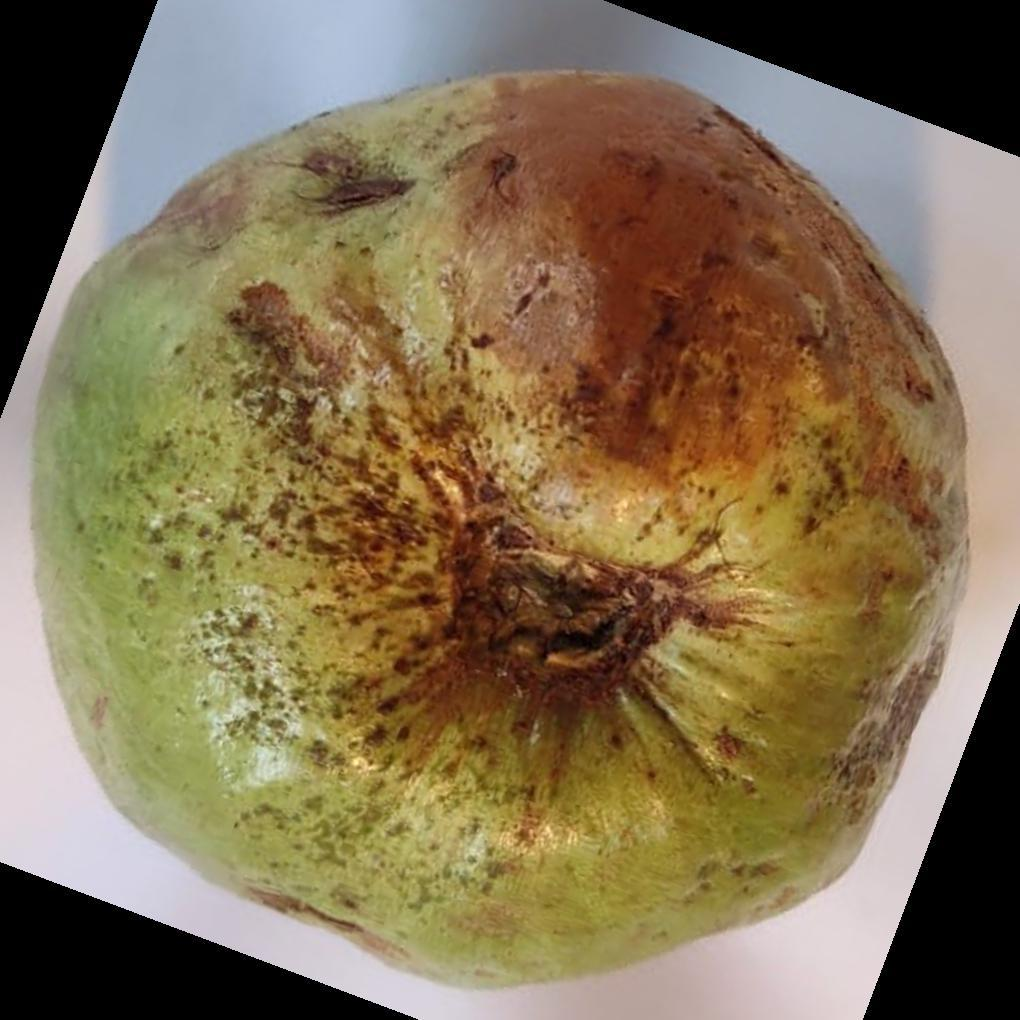FreshOrange: (28, 70, 972, 993)
